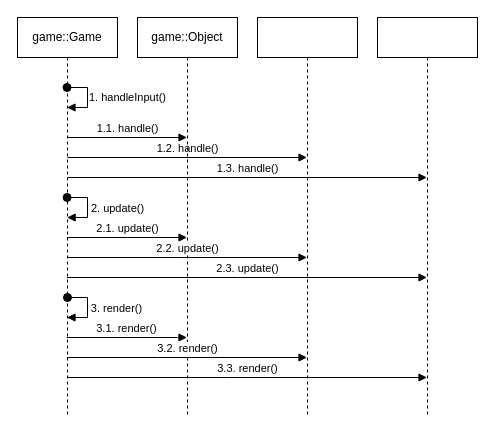
Image size: 495x435. Some labels were removed from this diagram. Each missing label, with the box of its shape:
gui::GUI: (376, 16, 478, 418)
scene::SceneGraph: (256, 16, 358, 418)
